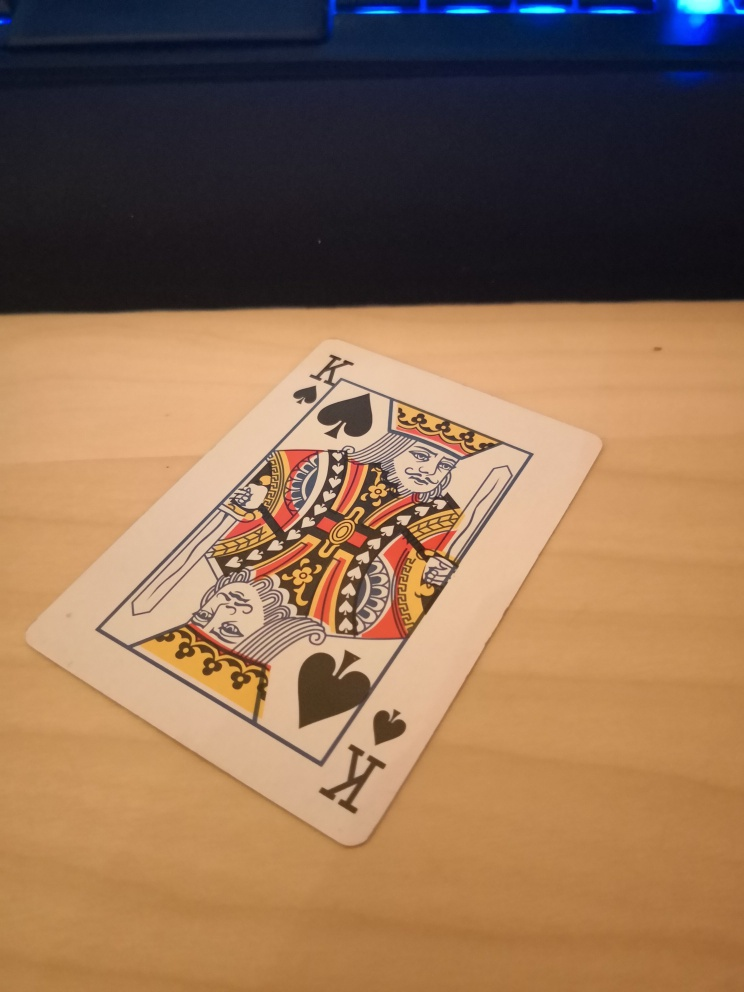king: (24, 337, 603, 848)
